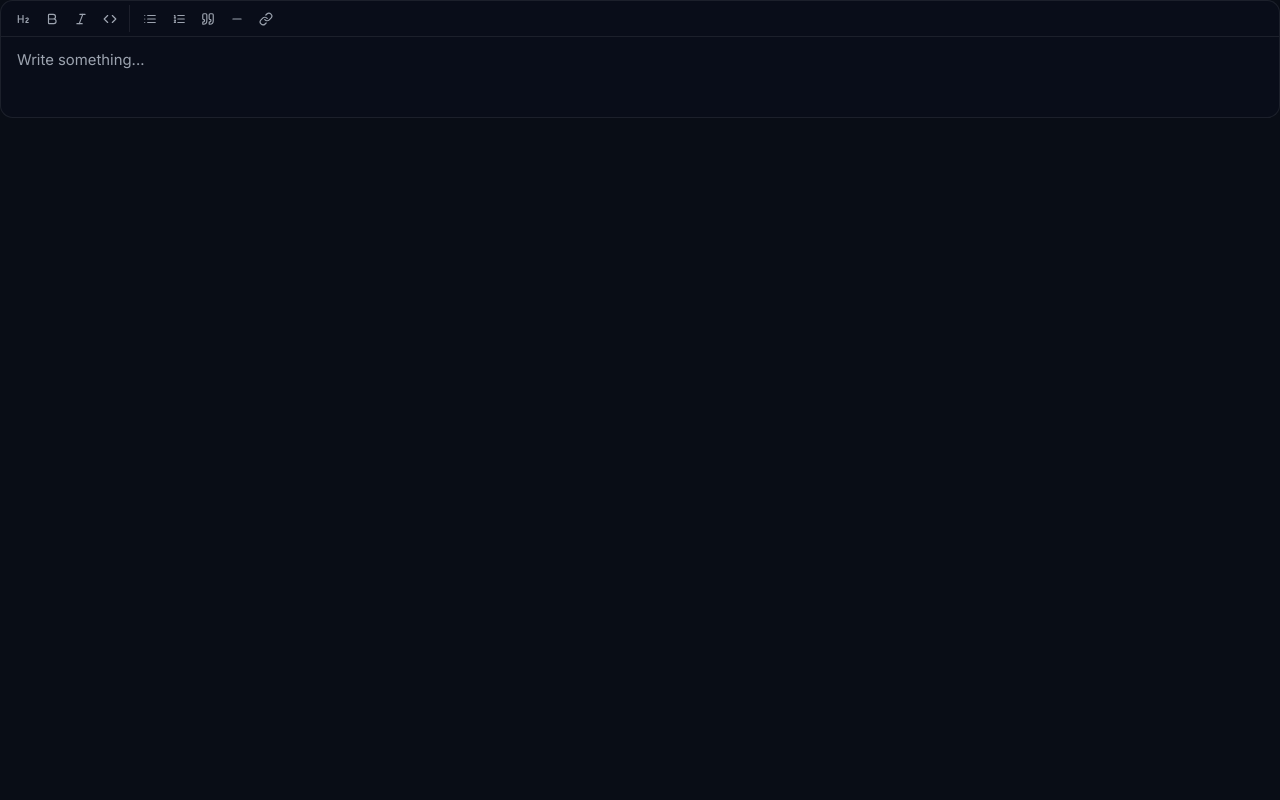
Test: RichTextEditor link with visible text › refuses anything that is not a web or mail address
Click the button titled "Add link": {"x": 266, "y": 19} [252,5,279,32]
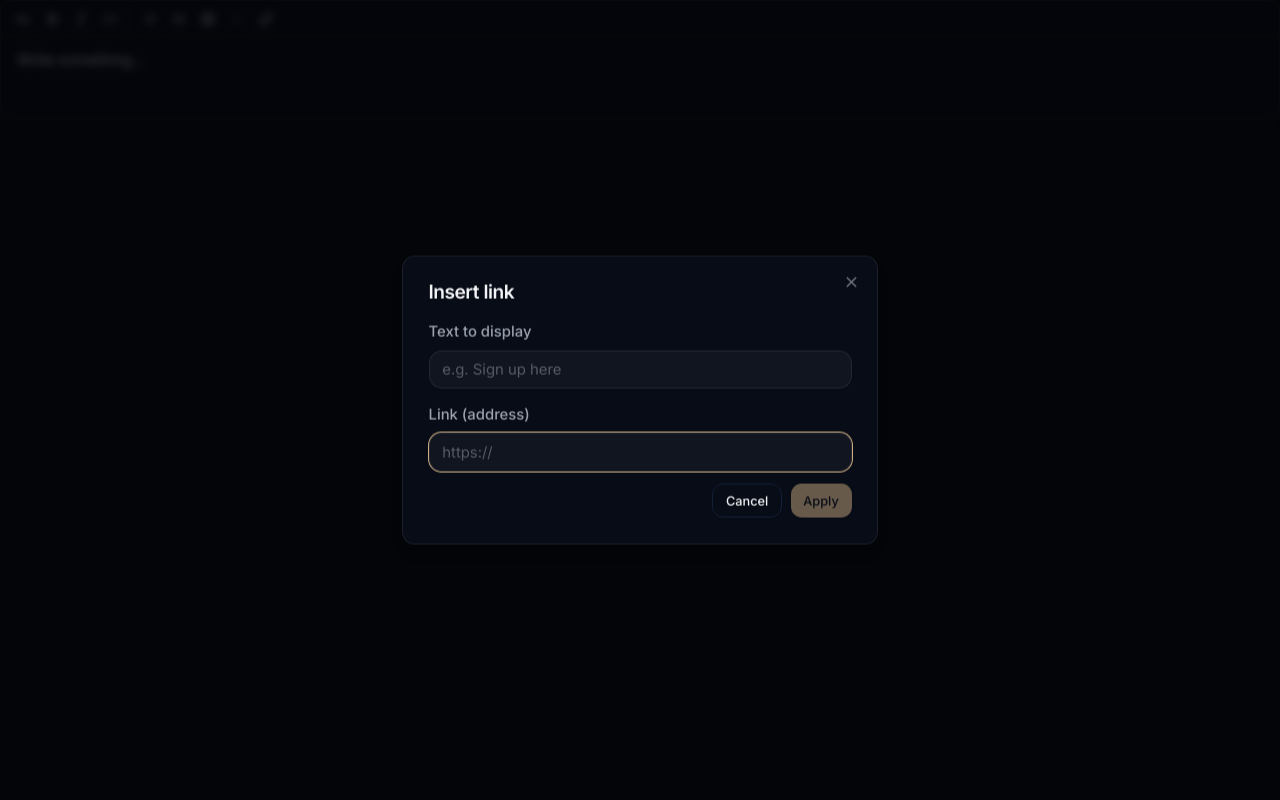
In the field labelled "Link (address)": {"x": 640, "y": 452} [428,433,852,471], type "javascript:alert(1)"
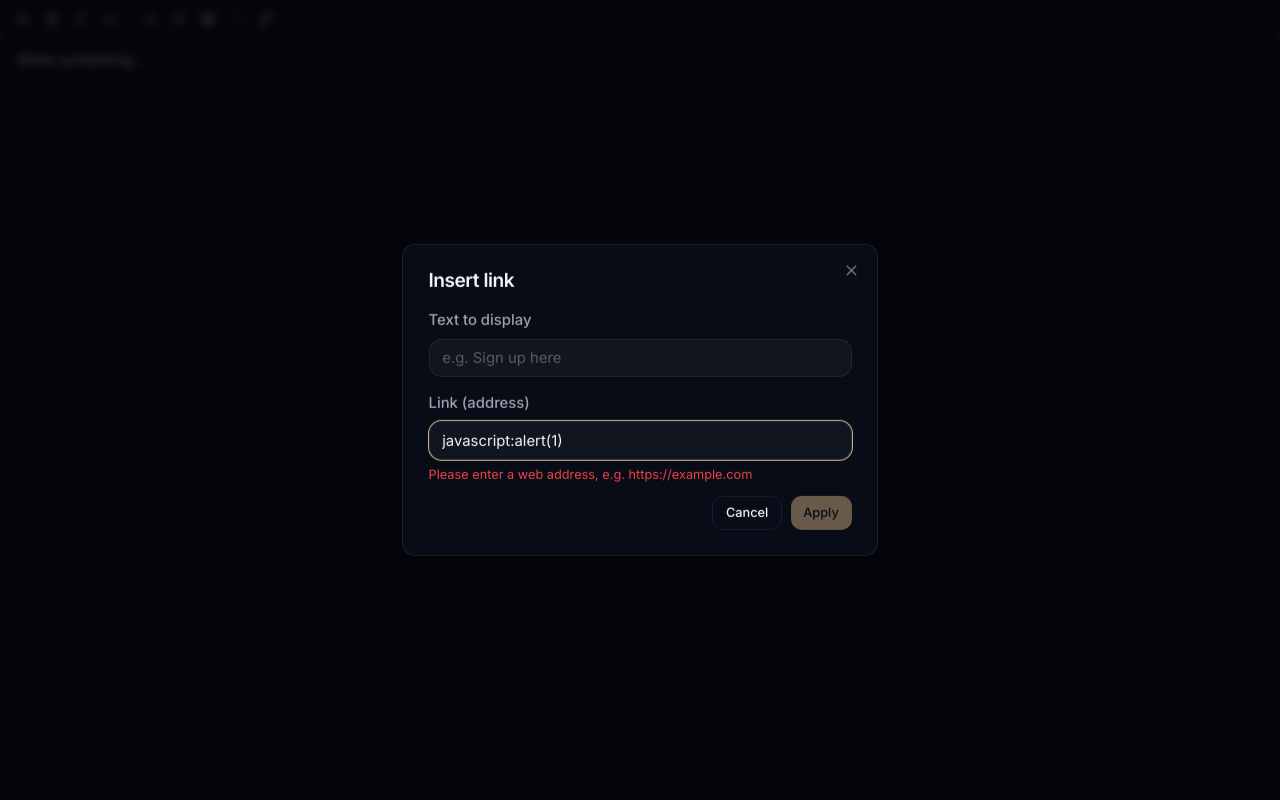
Expected: the button "Apply" is disabled, [791,496,852,530]
Expected: the text "Please enter a web address, e.g. https://example.com" is shown, [428,467,752,482]
